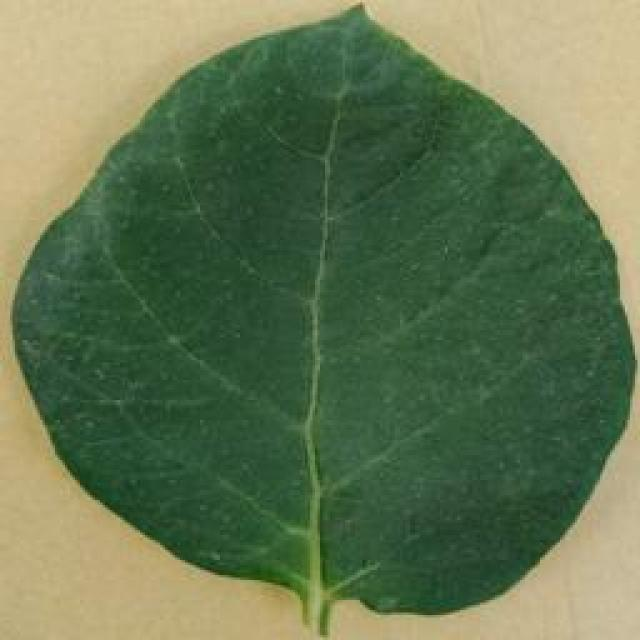Potato_Healthy: (9, 1, 625, 629)
